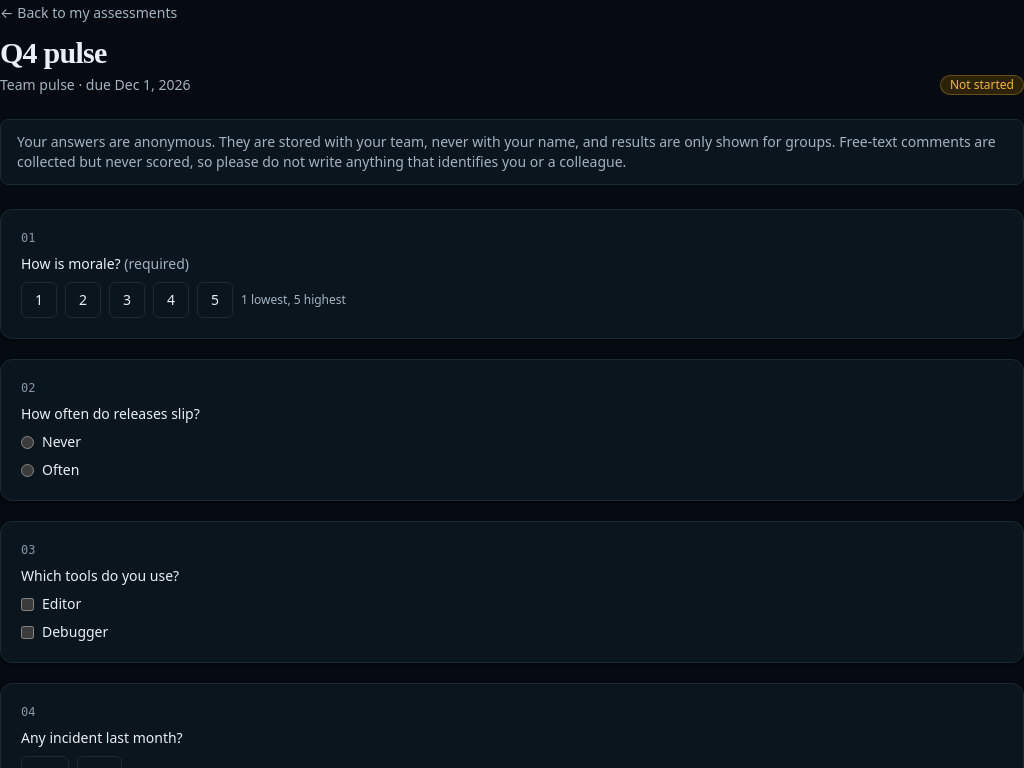
Scenario: RespondPage › shows the reason when the server refuses an answer
Click the radio button labelled "2" at point(83, 300), box [65,282,101,318]
(page scrolled)
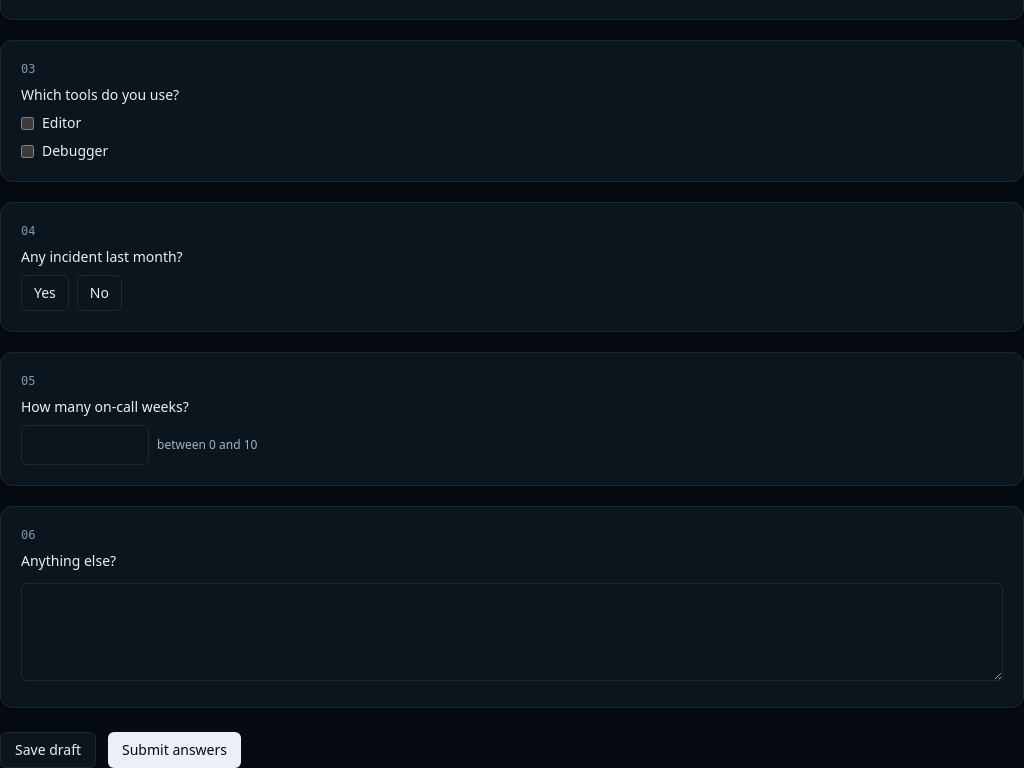
Click the button "Save draft" at point(48, 750), box [0,732,96,767]
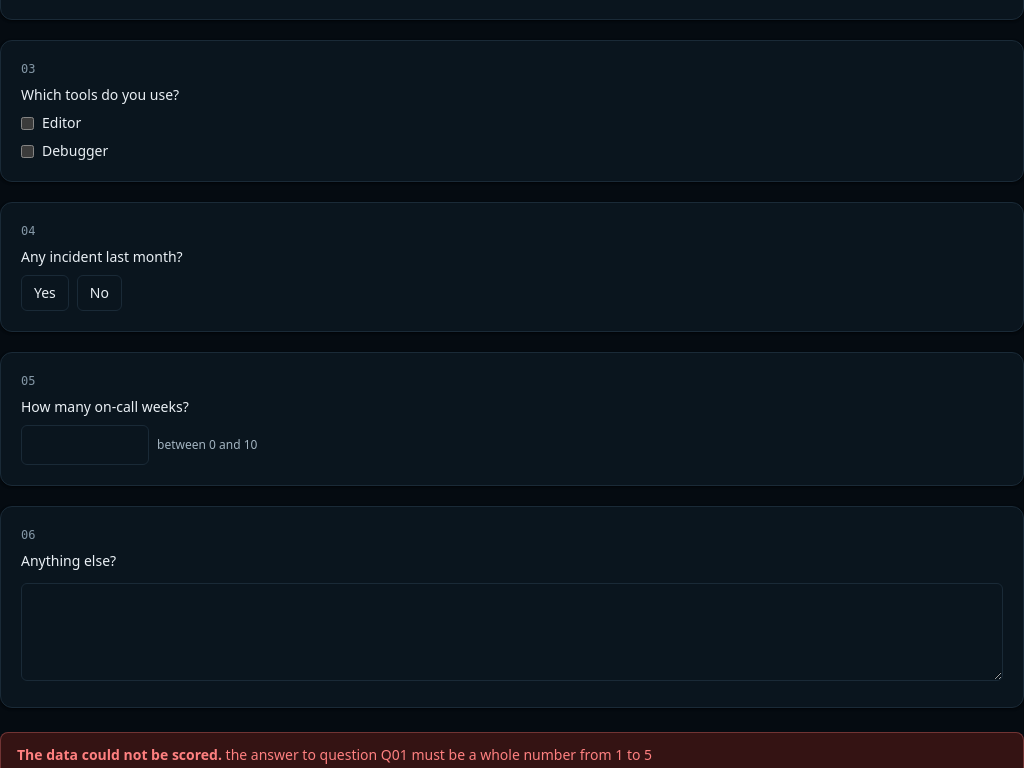
Now the text "must be a whole number from 1 to 5" is shown, box [226,745,652,764]
